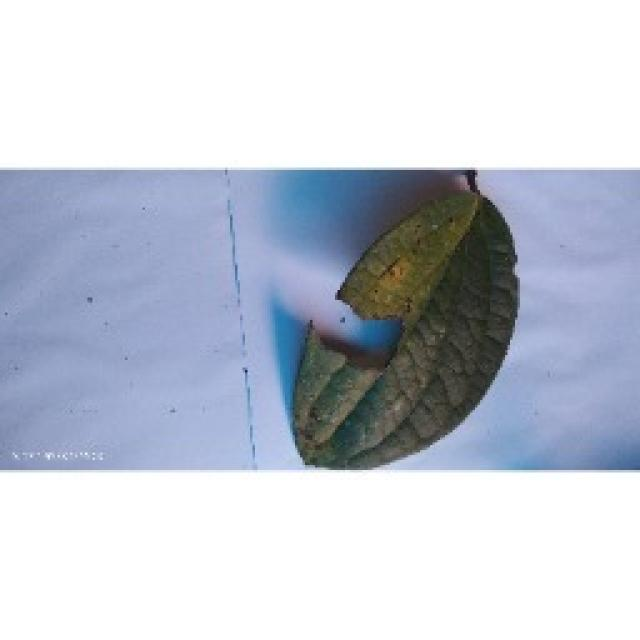slow-decline: (285, 178, 527, 468)
